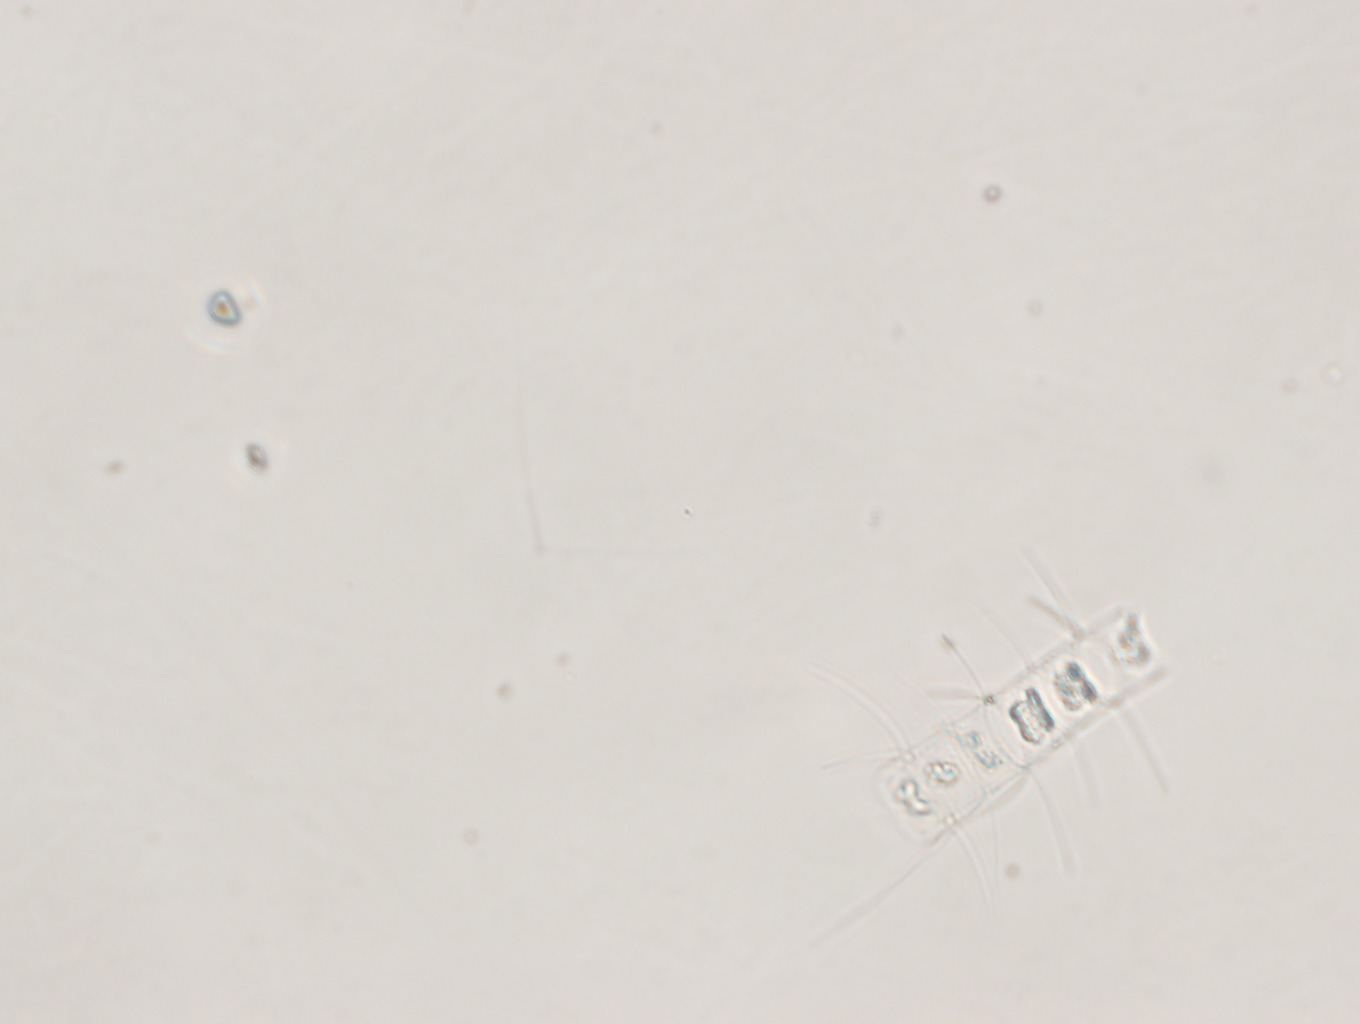helicotheca: (788, 539, 1202, 935)
